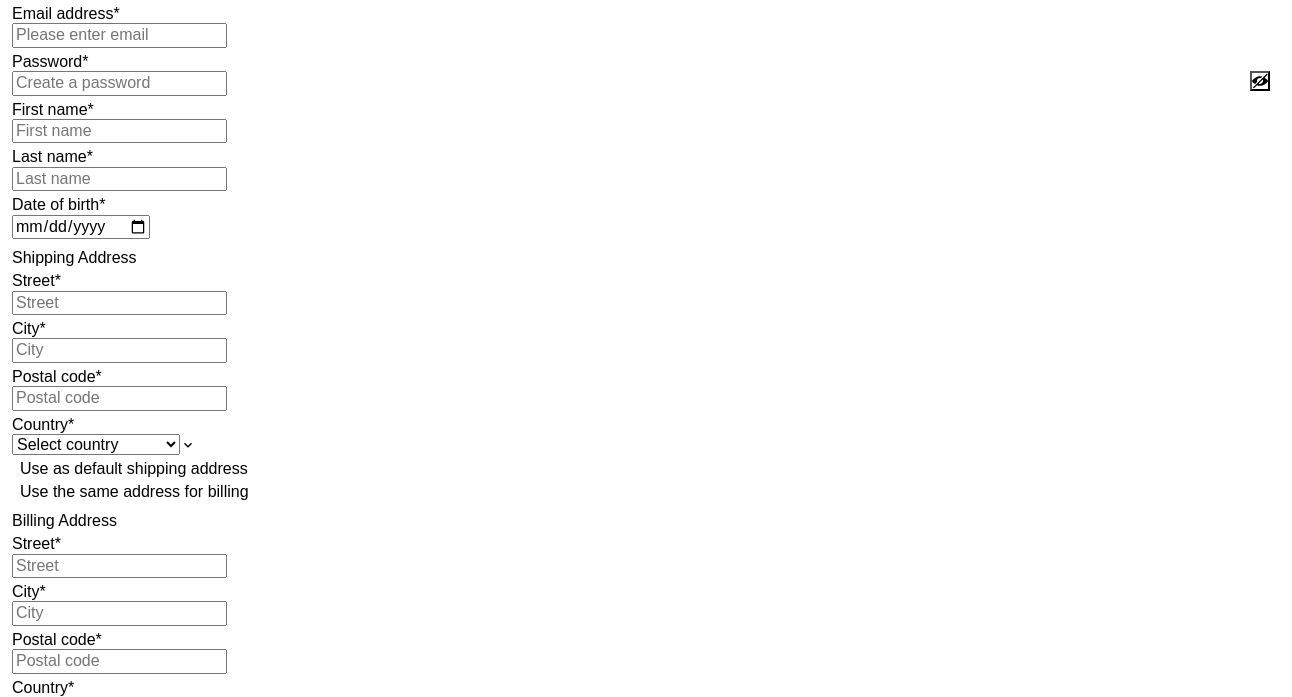
Test: SignUpForm › should say if email is invalid
In the field with placeholder "Please enter email": [120, 36] box [12,23,227,48], type "invalidemail"
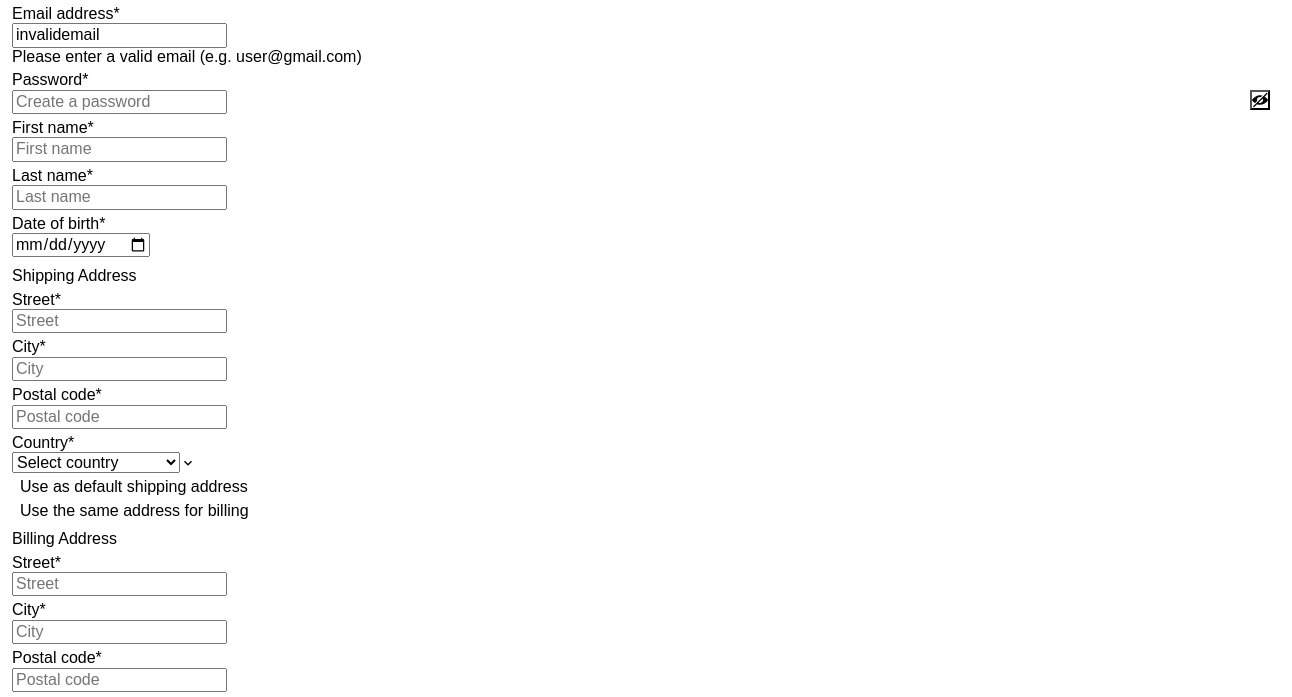
Expected: the text "Please enter a valid email (e.g. user@gmail.com)" is shown, [12,48,362,65]
